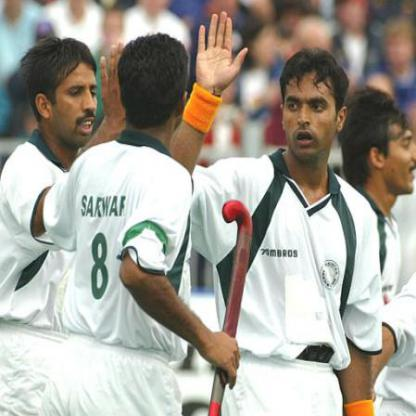face: (50, 38, 107, 147), (284, 53, 340, 161)
